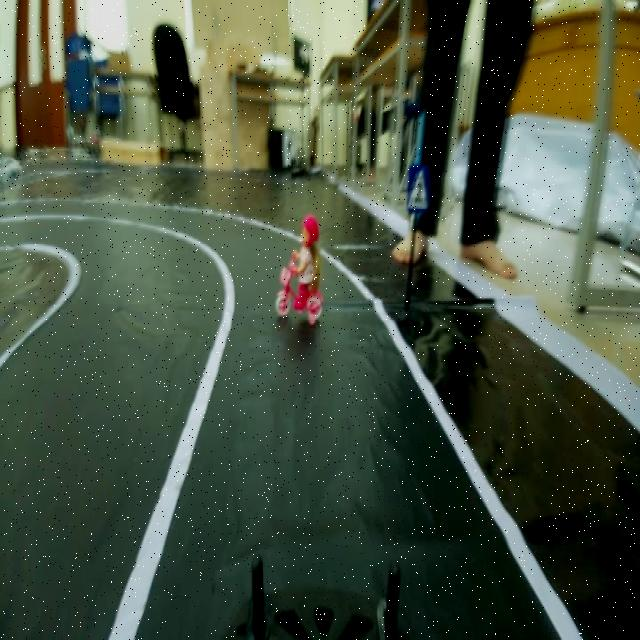crosswalk: (402, 159, 434, 224)
pedestrian: (277, 213, 327, 324)
